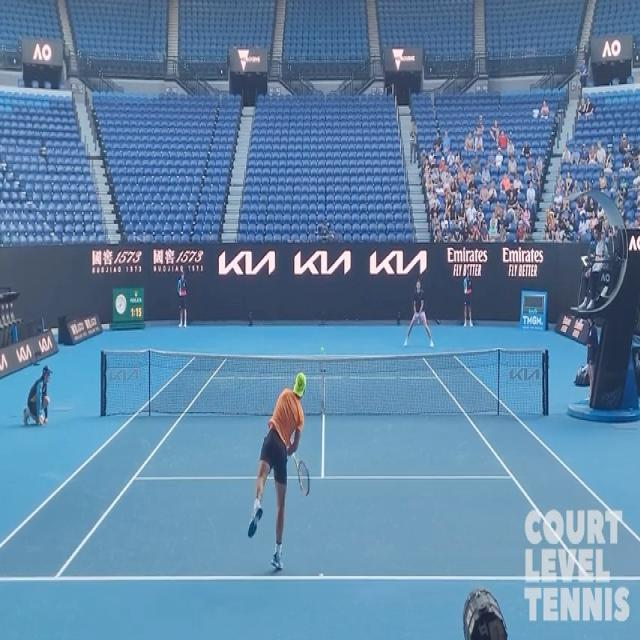serve_followthrough: (232, 336, 320, 577)
